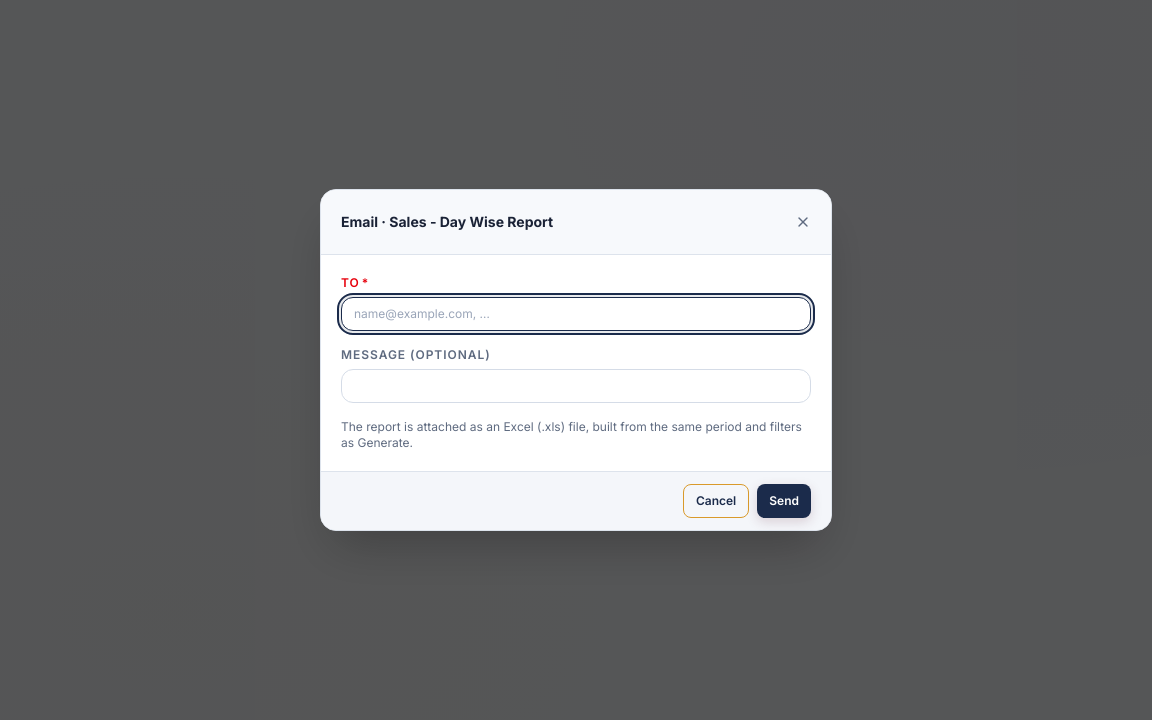
Test case: ReportEmailDialog › shows a bad address inline and sends nothing
Type "owner@example" into the field labelled "To*".
click(576, 314); type("owner@example")  # box [341,297,811,331]
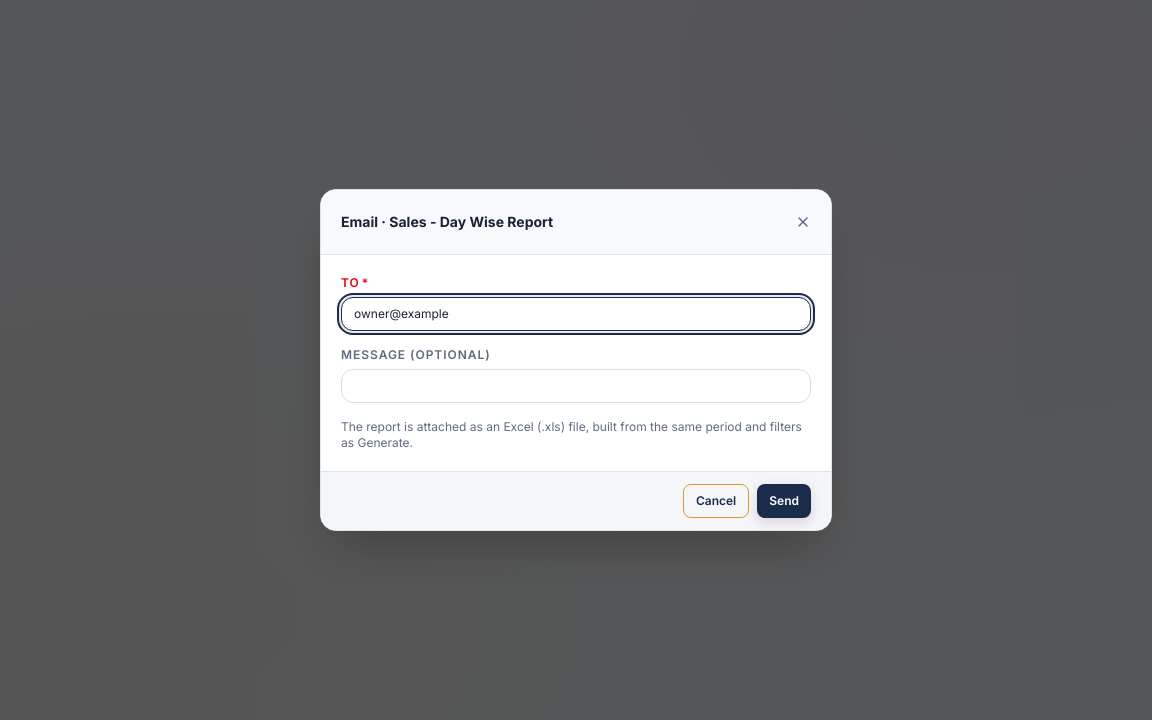
Click the button "Send".
click(784, 501)  # box [757,484,811,518]
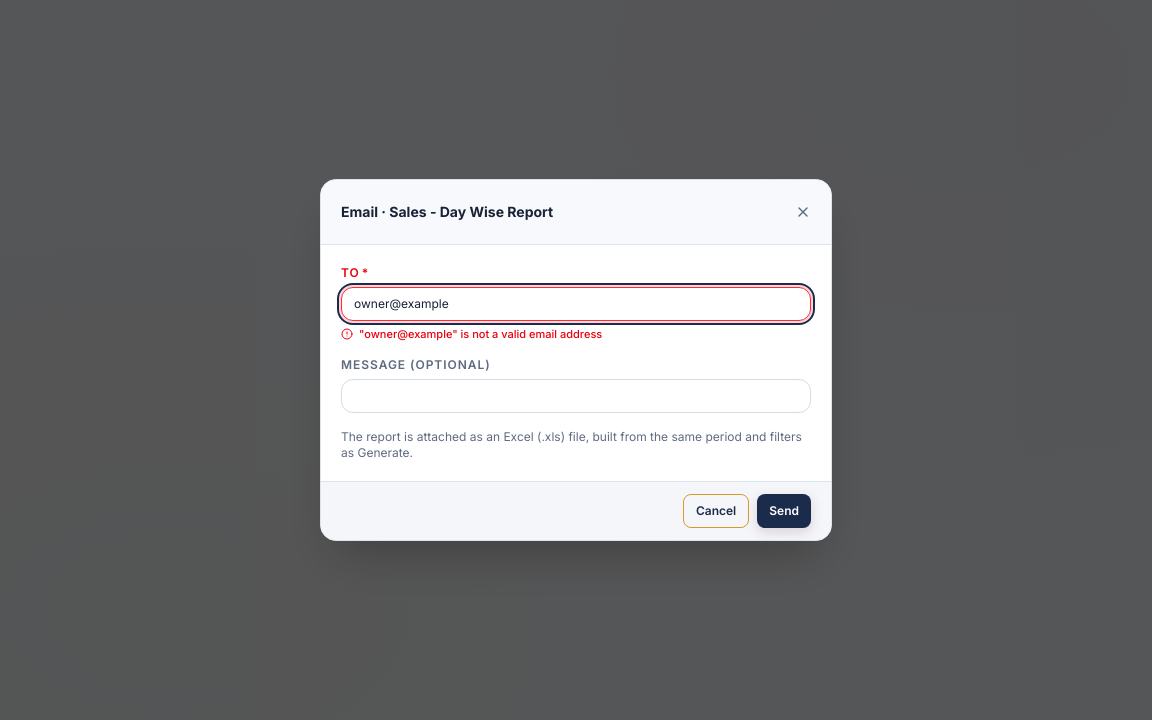
Result: the message reads "\"owner@example\" is not a valid email address" at [359,327,602,341]
